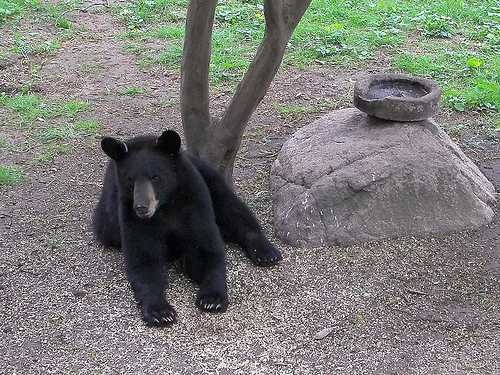bear: (88, 125, 216, 253)
